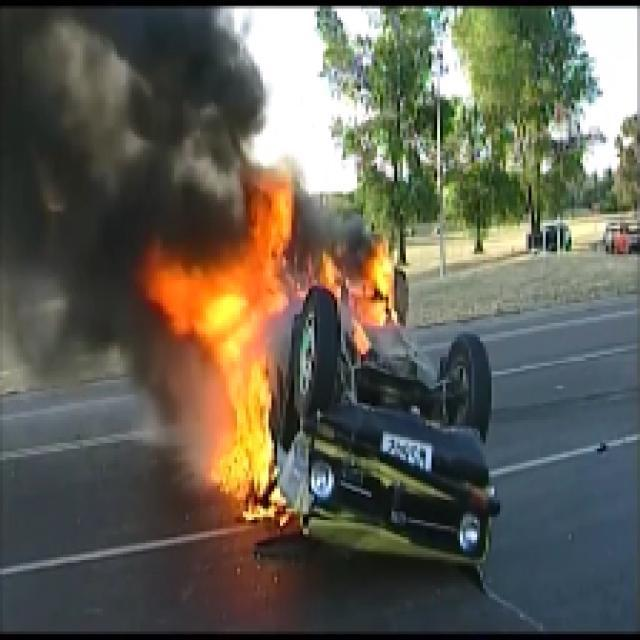Fire: (140, 168, 294, 523), (294, 246, 394, 351)
Smoke: (2, 3, 132, 340)
